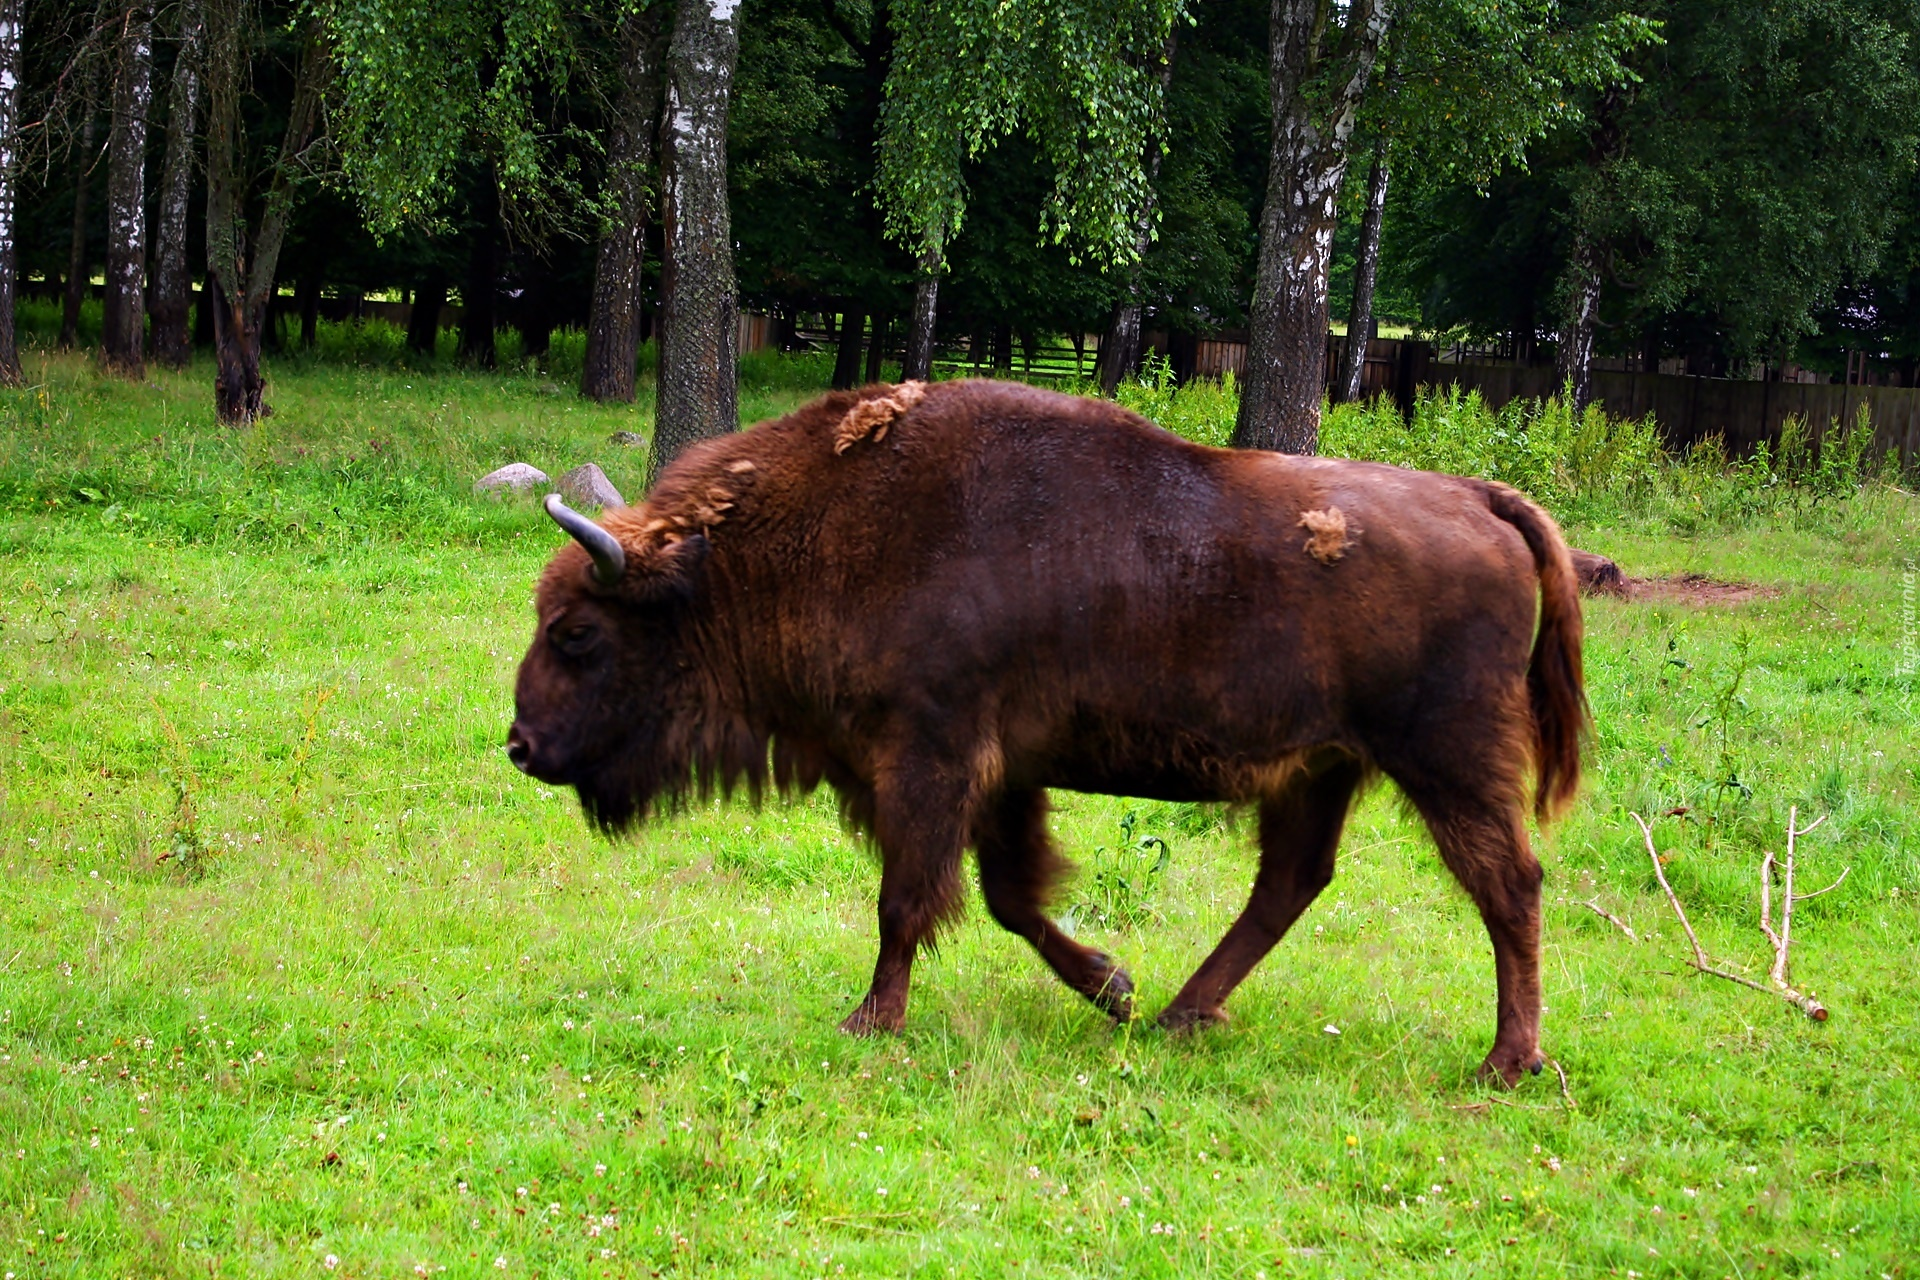zubr: (393, 317, 1679, 1184)
